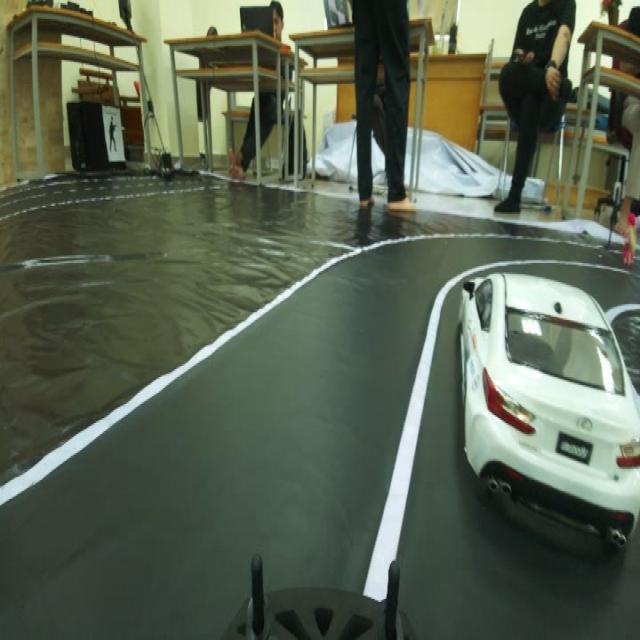car: (446, 230, 638, 556)
